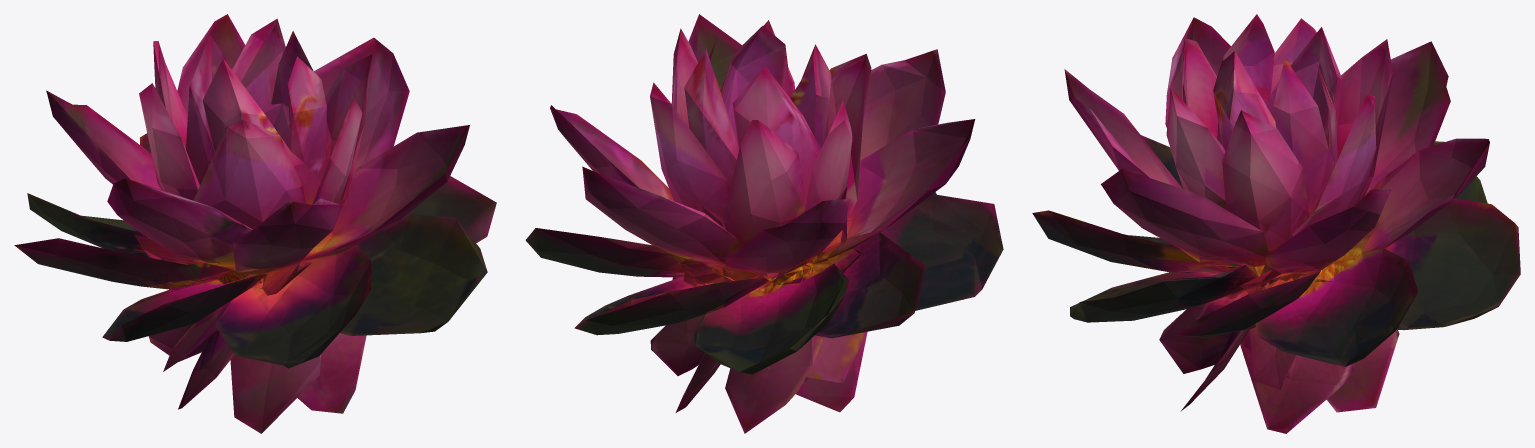
The model's file is Radiant_Blossom_0508141354_texture.fbx.
3 views of the same model, side by side, from view 1: azimuth 30°, elevation 25°; view 2: azimuth 150°, elevation 25°; view 3: azimuth 270°, elevation 25° (orthographic). The views are drawn at different scales.
Parts seen in each view (by area): view 1: temp; view 2: temp; view 3: temp.
Boxes of the visible parts, left/top/right/bottom form: temp: left=14, top=14, right=496, bottom=433; temp: left=525, top=14, right=1003, bottom=433; temp: left=1032, top=14, right=1520, bottom=433.
Bounding box in the file's own units: 191 × 161 × 199.
1 material, 1 textured.
